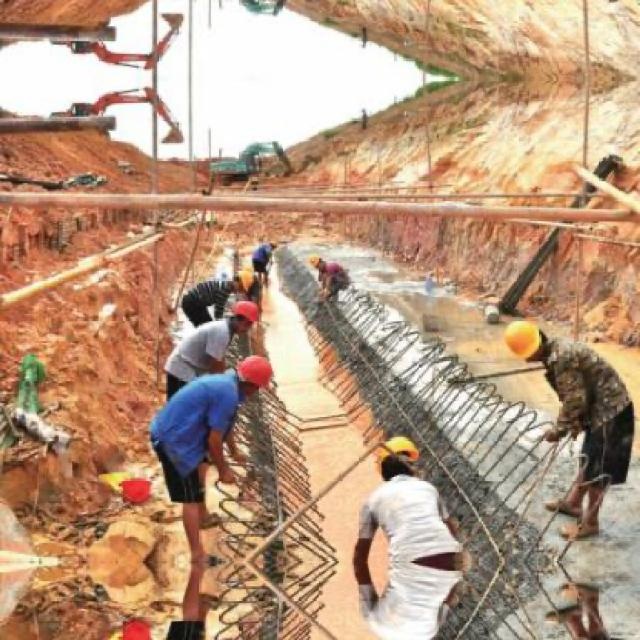con casco: (488, 293, 558, 395), (377, 428, 424, 488), (237, 351, 291, 392), (223, 314, 223, 331)
sin casco: (488, 304, 547, 398)
